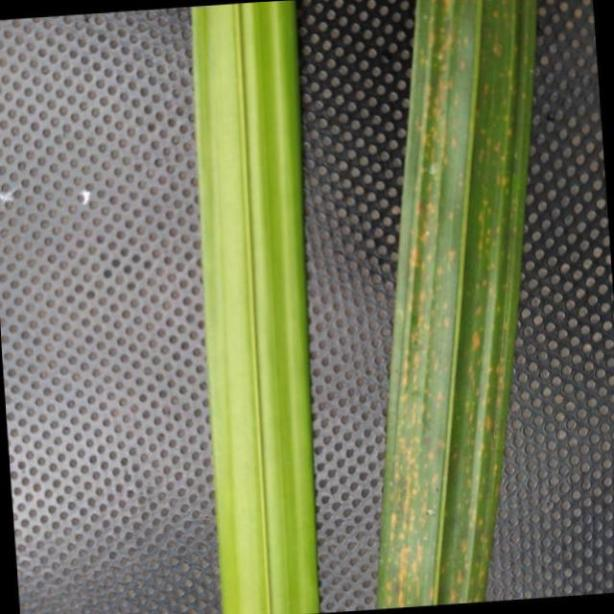nitrogen: (374, 0, 539, 614), (189, 0, 321, 614)
